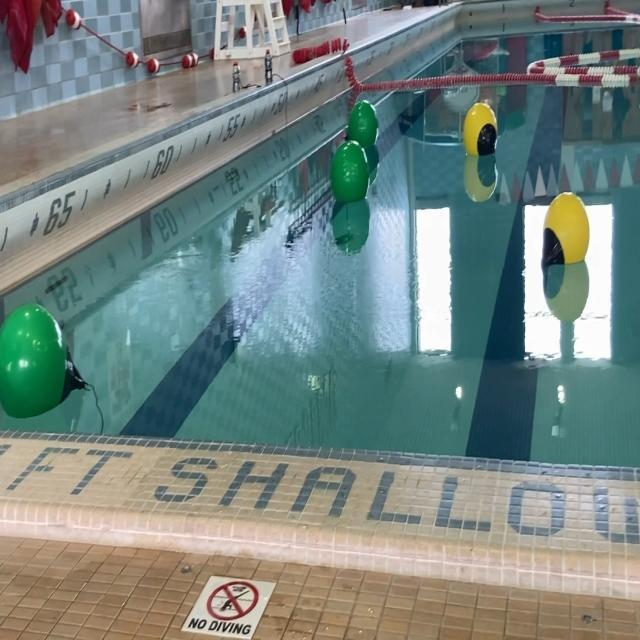buoy: (0, 304, 86, 420), (542, 191, 592, 265), (331, 139, 374, 204), (464, 102, 497, 159), (347, 102, 378, 150)
